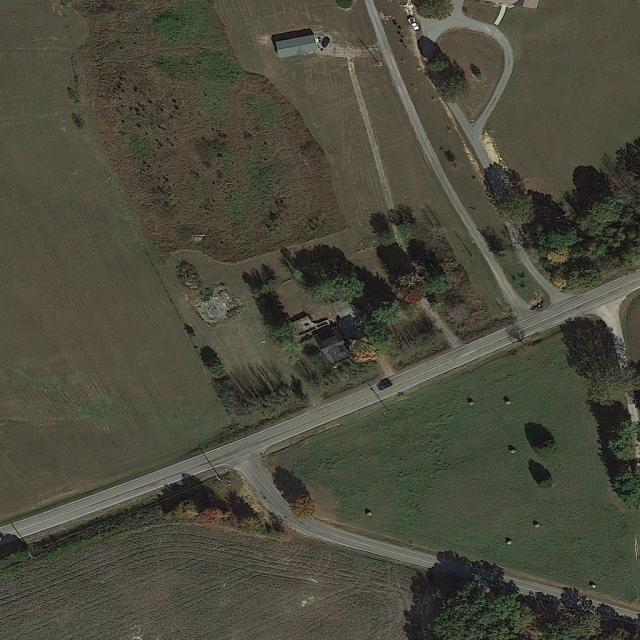small-vehicle: (377, 381, 392, 391), (410, 19, 420, 31)
